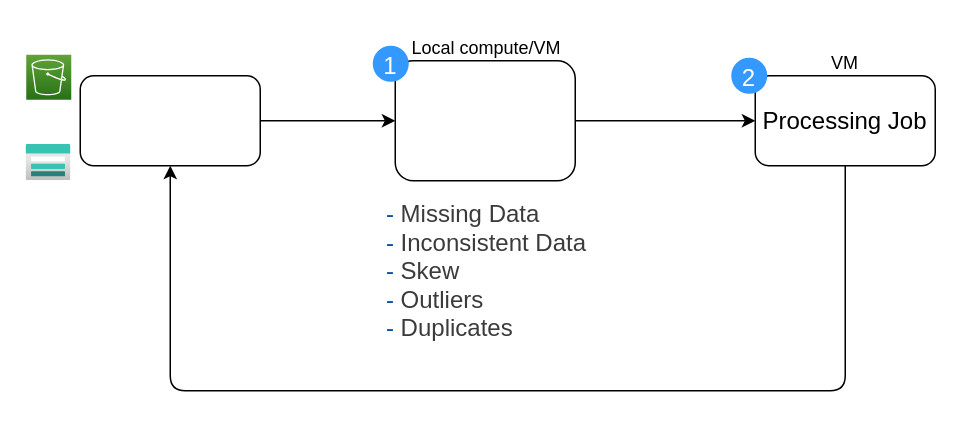
Some shapes in this 962 by 429 pixel diagram are drawn without their labels. Here are the shapes that lost their labels. From the top down, the box of each, then its label:
(79, 74, 260, 166): Data Store
(394, 59, 575, 181): Explore Patterns (EDA)
